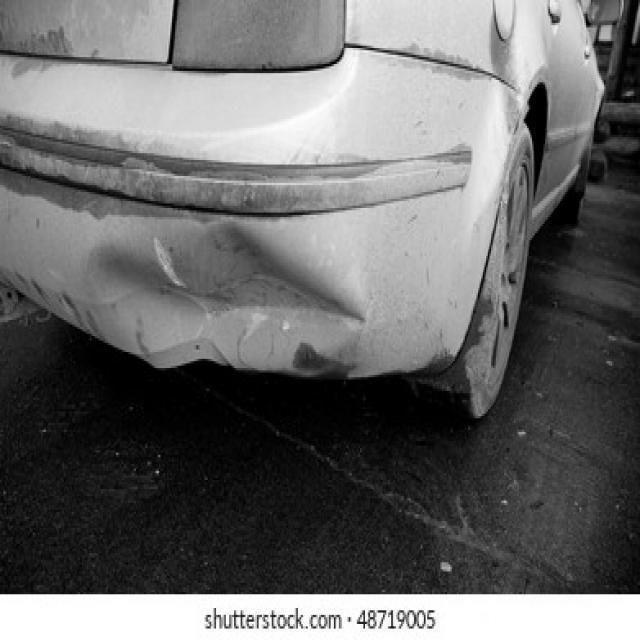rear-bumper-dent: (1, 167, 498, 409)
